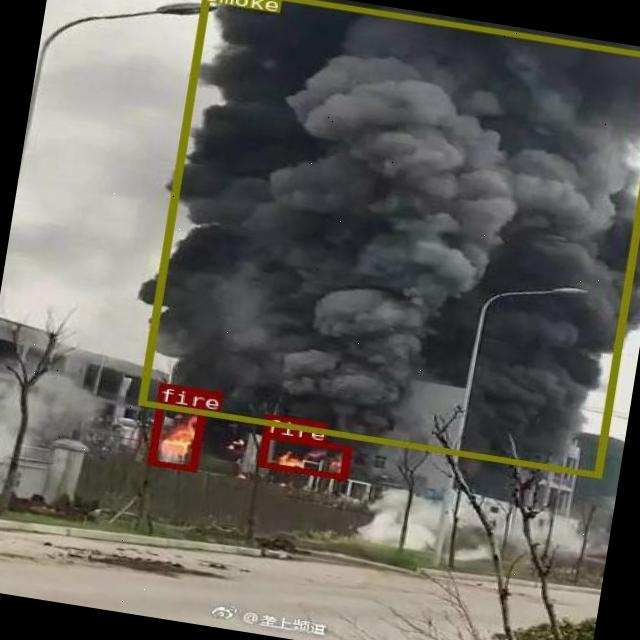fire: (258, 432, 350, 479), (146, 402, 204, 472)
smoke: (137, 0, 640, 477)
